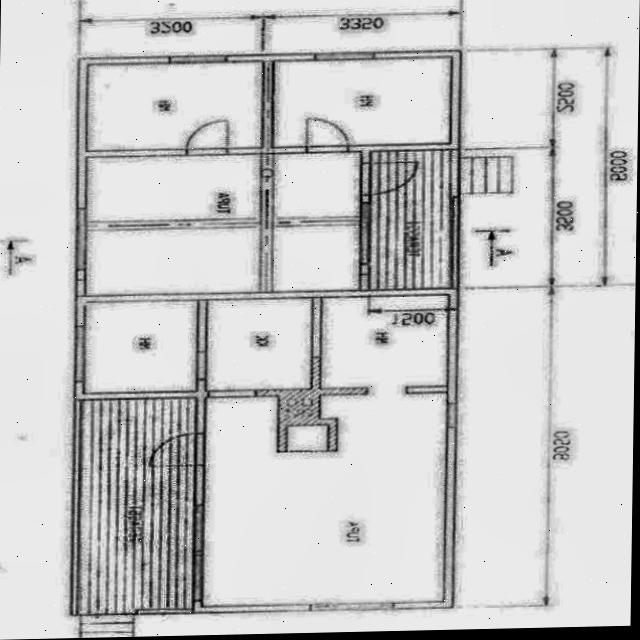room: (202, 293, 446, 610), (82, 152, 363, 295), (270, 58, 451, 147), (85, 62, 264, 150), (369, 150, 450, 290), (82, 301, 198, 393)
